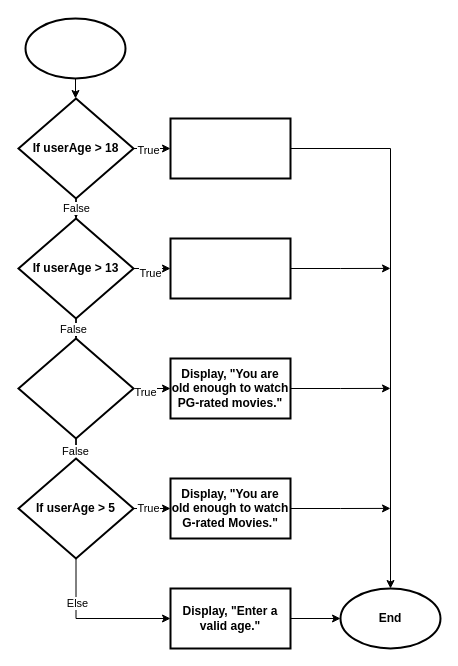
Image size: 458x666. Some labels were removed from this diagram. The shapes that lost their labels are listed below. From the top down, each one's centre as x and y in pixels, then its label:
point 75,48: Staart
point 230,148: Display, "You are old enough to watch R-rated movies."
point 230,268: Display, "You are old enough to watch PG-13-rated movies."
point 75,388: If userAge > 10
